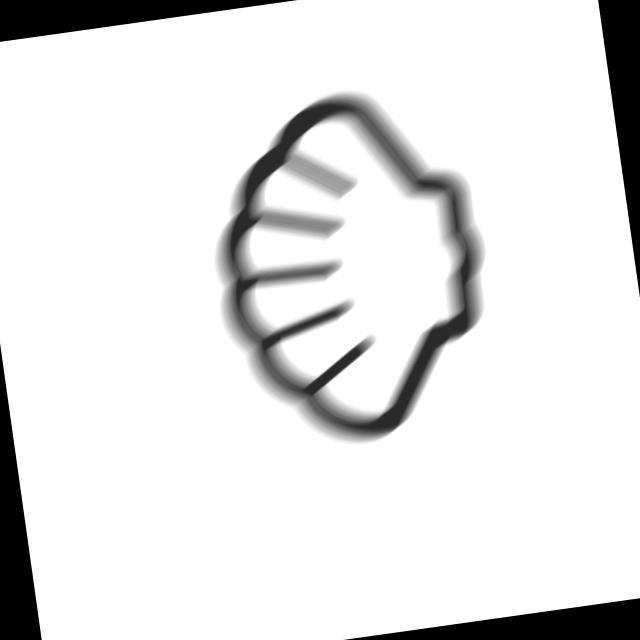shell: (186, 69, 518, 471)
